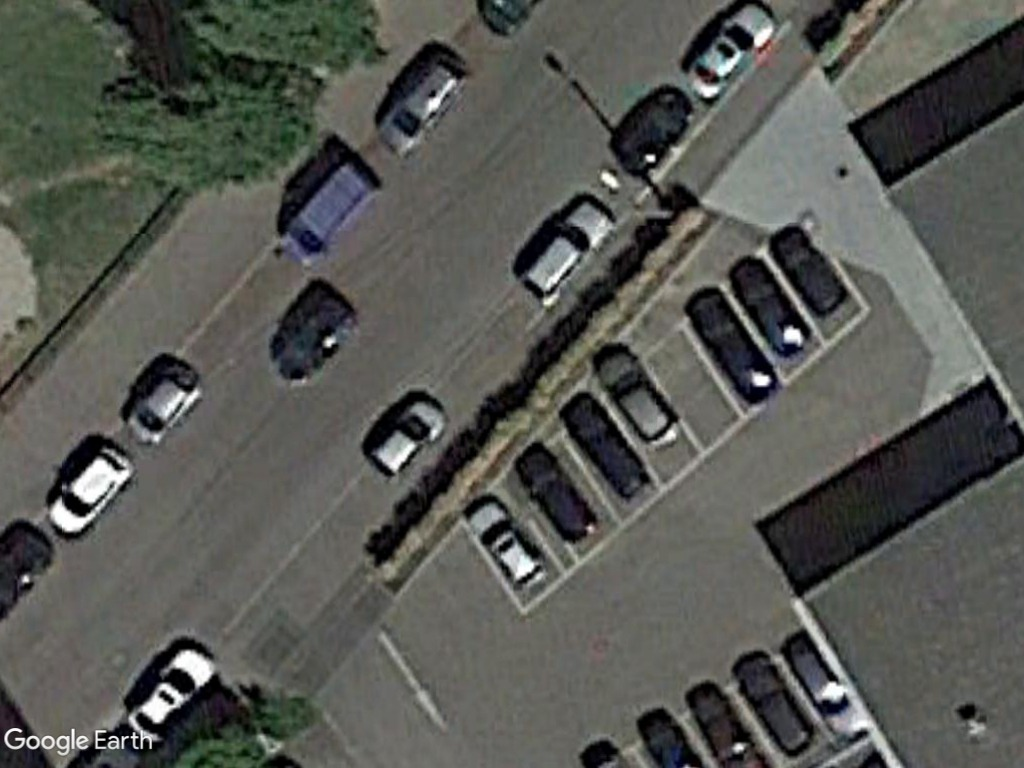car: (511, 200, 613, 312), (121, 641, 224, 749), (375, 50, 473, 157), (682, 1, 778, 105), (590, 346, 682, 449), (46, 445, 136, 546), (462, 500, 550, 597), (361, 397, 448, 481), (123, 361, 201, 449)
